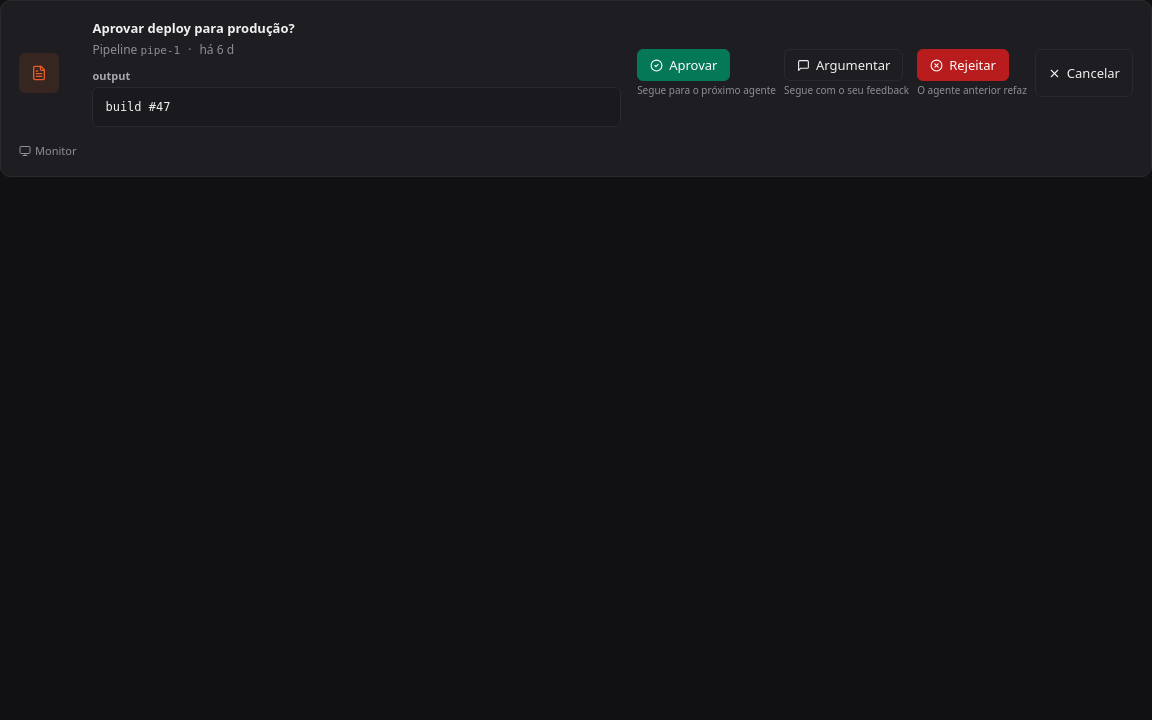
Test: ApprovalPanel › shows toast on 409 already_responded
Click the button "Aprovar" at (684, 65), box [637,49,730,81]
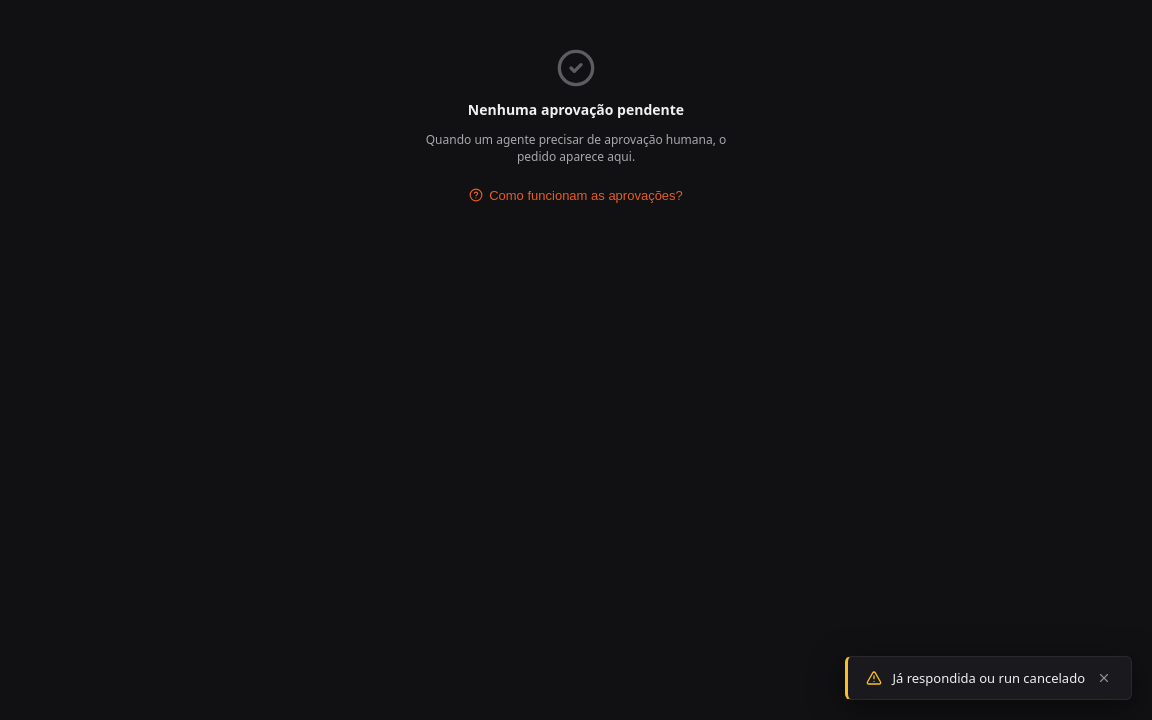
Expected: the text "Já respondida ou run cancelado" is shown, [892,669,1085,687]
